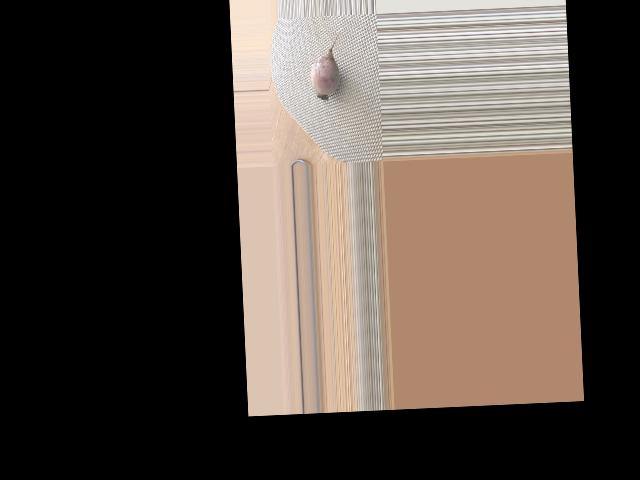beet: (308, 27, 347, 101)
